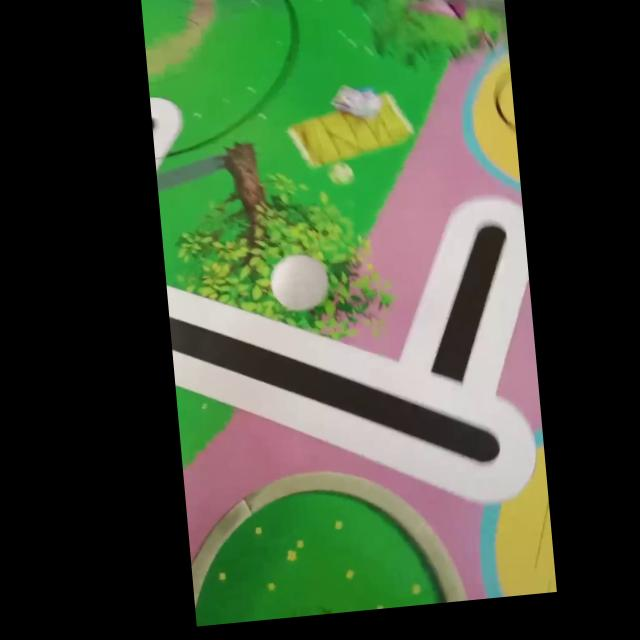white ball: (267, 250, 331, 314)
